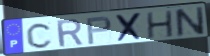C: (26, 22, 54, 50)
H: (145, 9, 175, 40)
N: (173, 5, 207, 39)
P: (85, 15, 113, 46)
R: (55, 17, 85, 49)
X: (114, 11, 144, 44)
